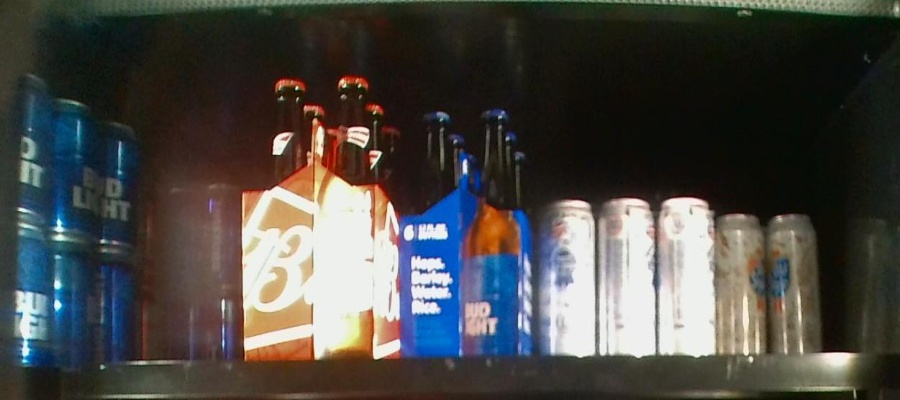bottle: (240, 78, 400, 358), (12, 86, 136, 362), (402, 100, 530, 356), (538, 199, 714, 359), (717, 207, 823, 353), (158, 178, 234, 355)
